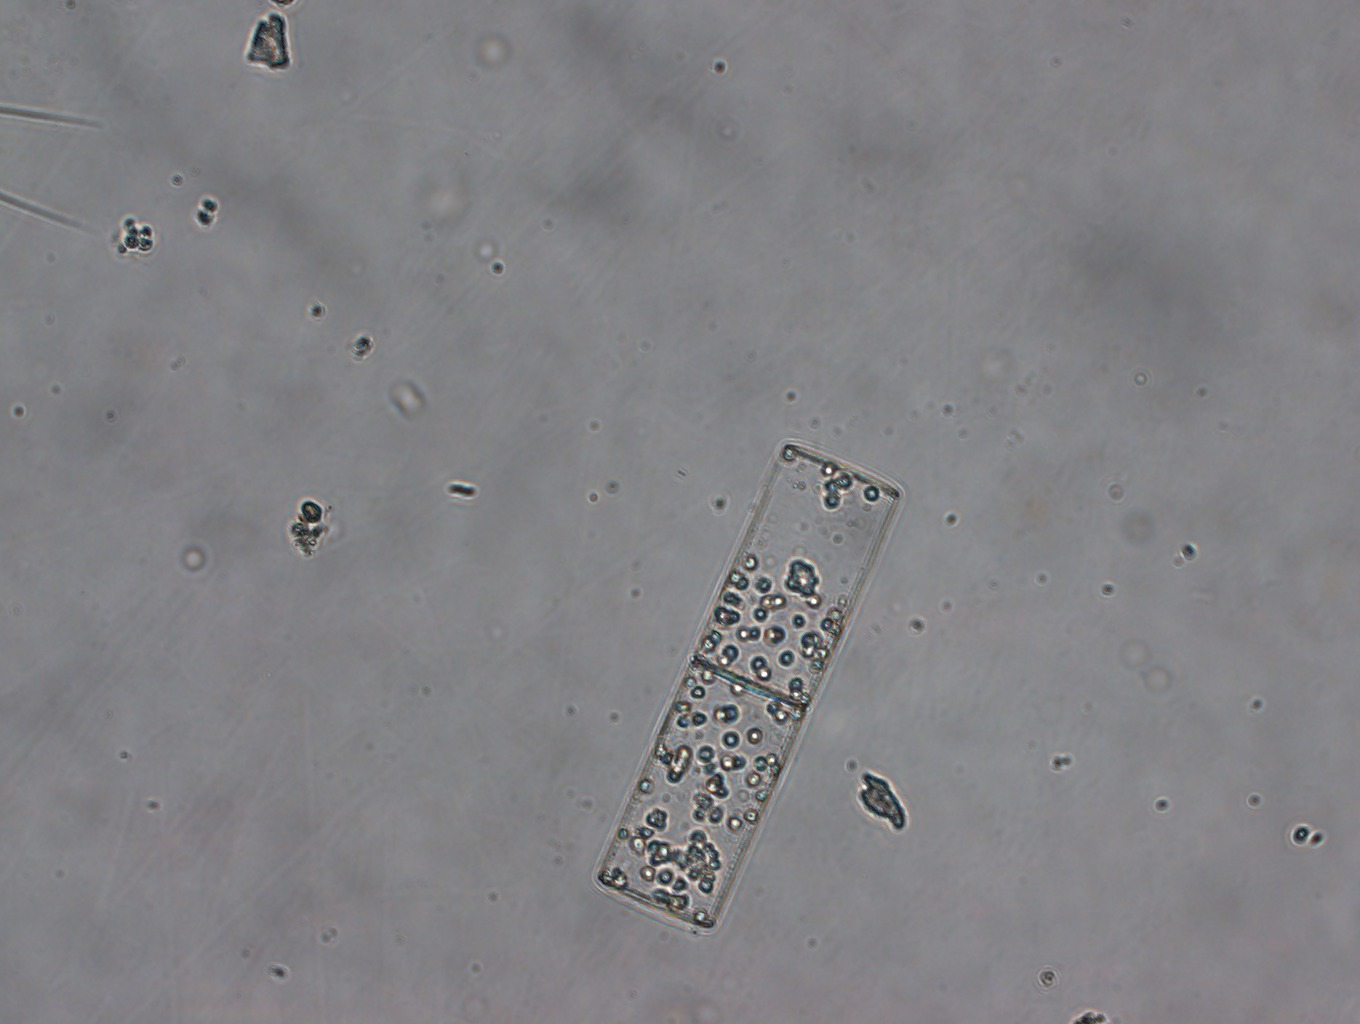guinardia flaccida: (595, 442, 900, 931)
